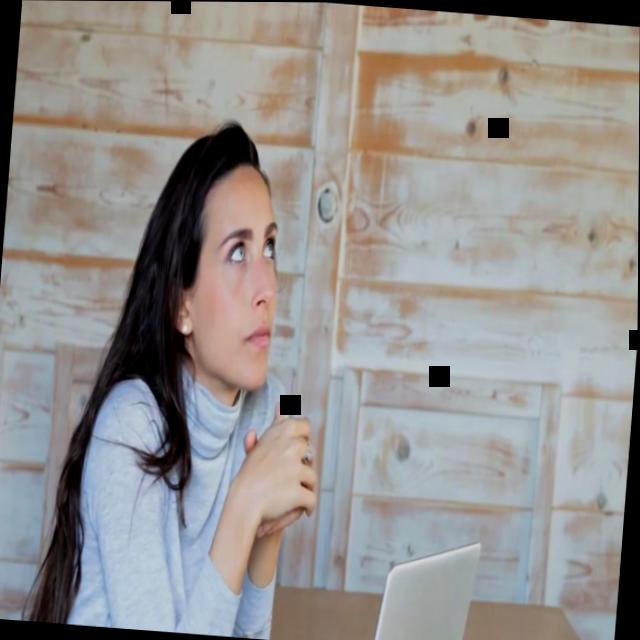NO-Mask: (187, 196, 285, 392)
